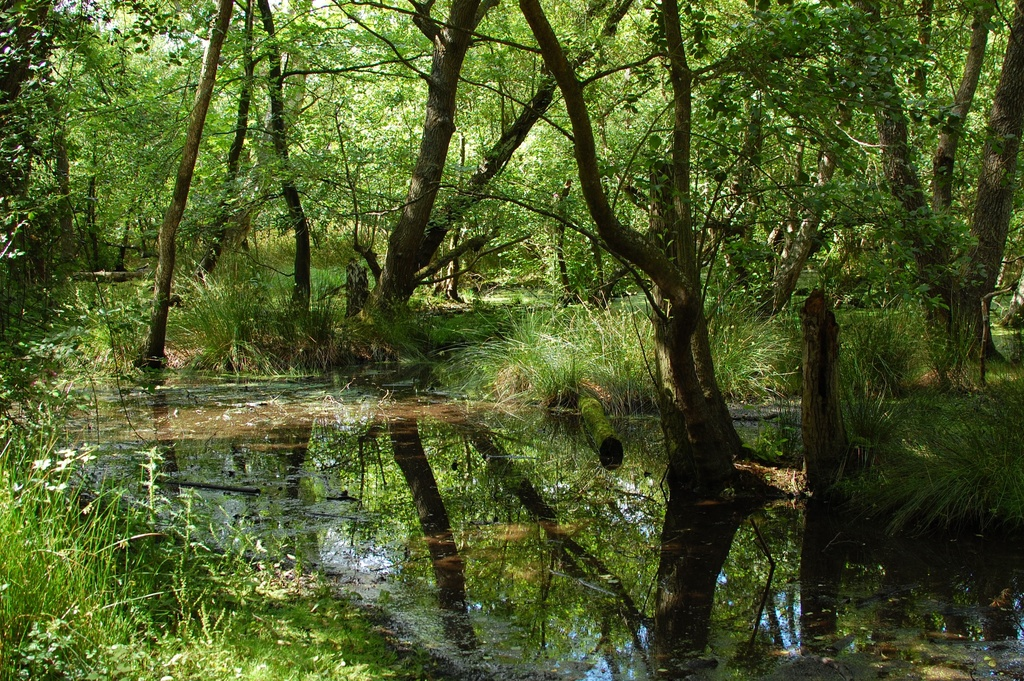Tree: (0, 0, 1023, 488)
